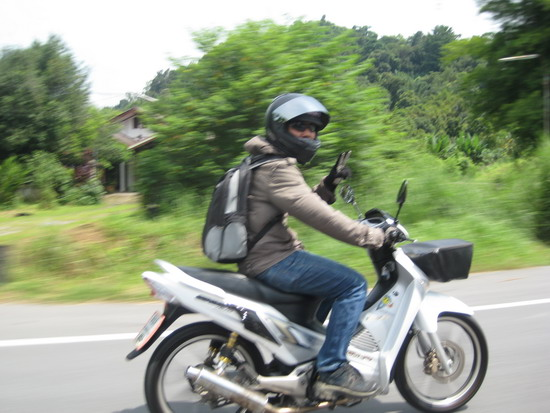helmet: (264, 93, 330, 165)
motorcycle: (143, 210, 490, 413)
